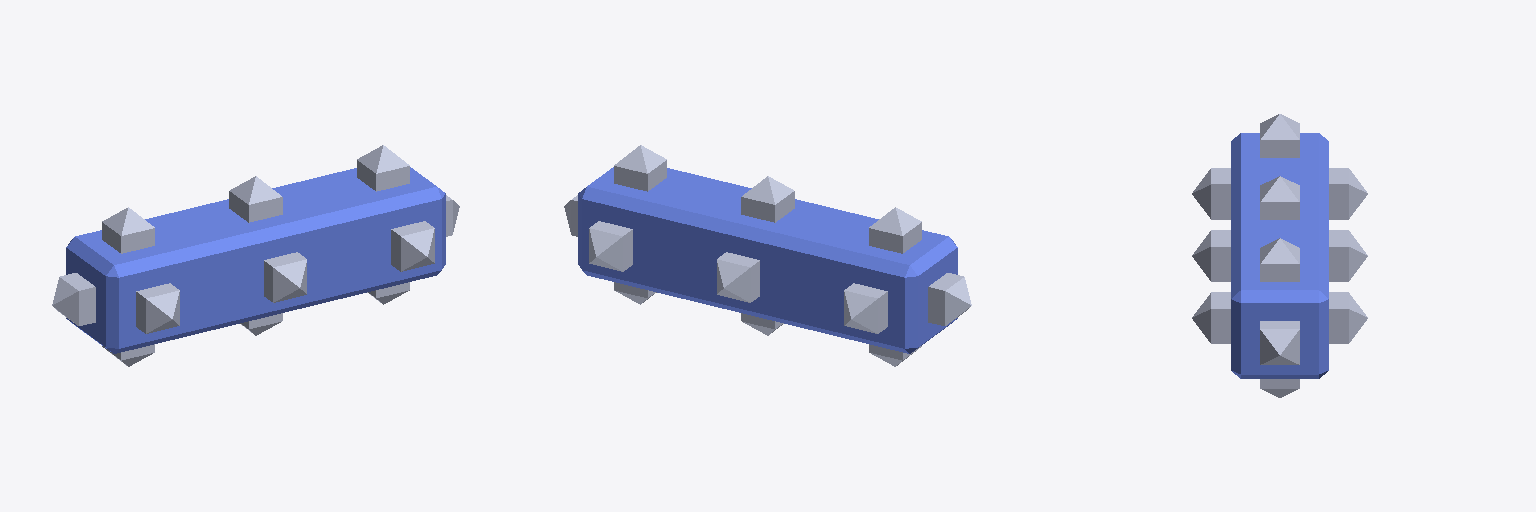
File: spikeBlockWide.obj
The picture shows the model from 3 angles: view 1: azimuth 30°, elevation 25°; view 2: azimuth 150°, elevation 25°; view 3: azimuth 270°, elevation 25°; orthographic projection.
Visible parts, largest first — view 1: spikeBlockWide; view 2: spikeBlockWide; view 3: spikeBlockWide.
Boxes of the visible parts, box(x1,y1,x2,y2) form: spikeBlockWide: box(52, 145, 459, 366); spikeBlockWide: box(564, 145, 971, 366); spikeBlockWide: box(1192, 114, 1367, 397).
Size of the model in its own units: 2.4 by 0.9 by 0.9.